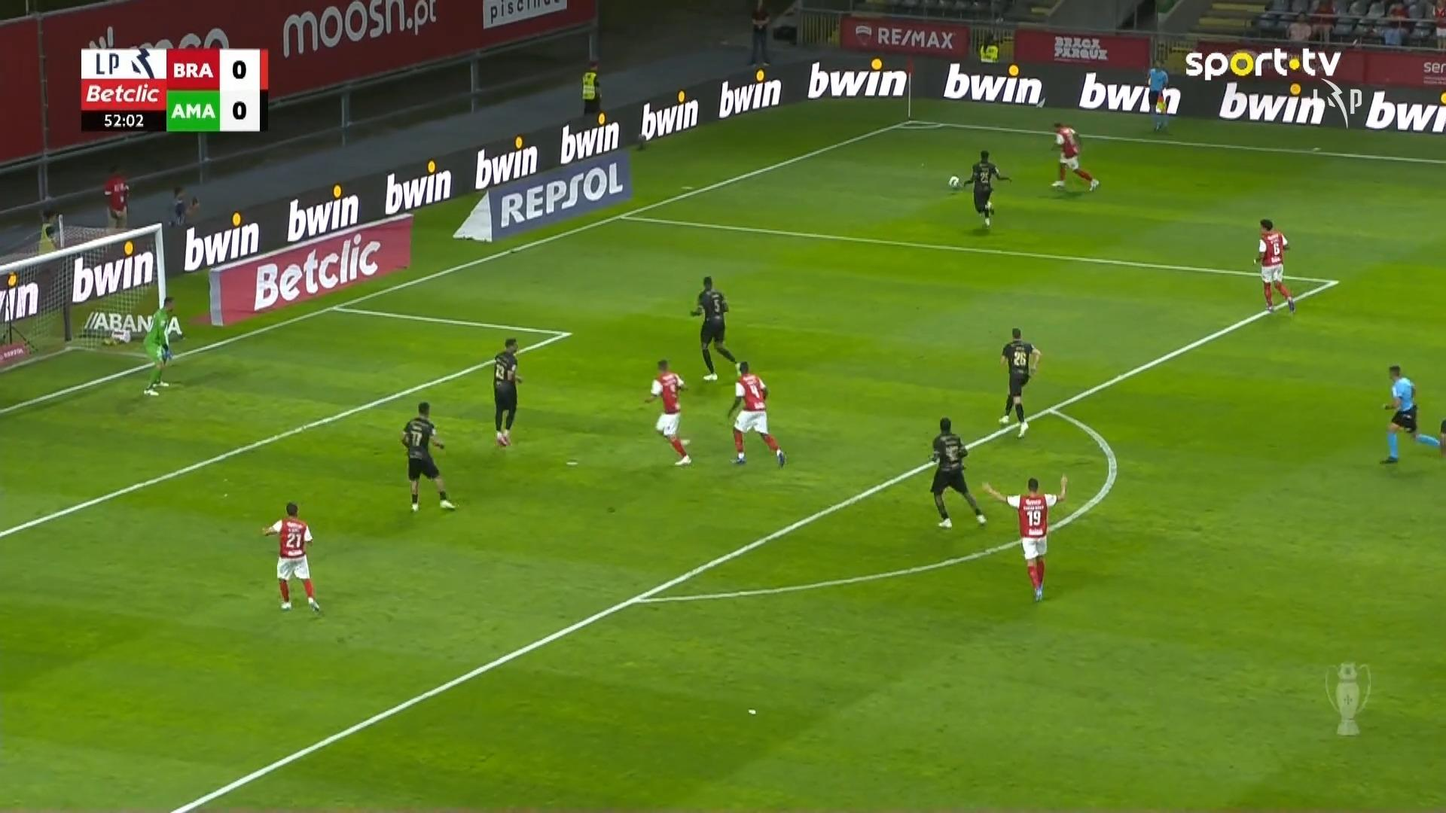ball: (496, 430, 508, 446), (947, 175, 959, 188)
goalkeeper: (141, 295, 183, 396)
player: (981, 473, 1069, 602), (261, 501, 321, 613), (928, 416, 987, 528), (726, 360, 786, 467), (400, 400, 455, 511), (643, 358, 692, 466), (689, 275, 737, 381), (997, 327, 1041, 438), (1252, 218, 1295, 313), (962, 149, 1011, 228), (1049, 120, 1100, 191), (492, 337, 523, 446)
referee: (1378, 364, 1442, 464), (1141, 60, 1170, 134)
